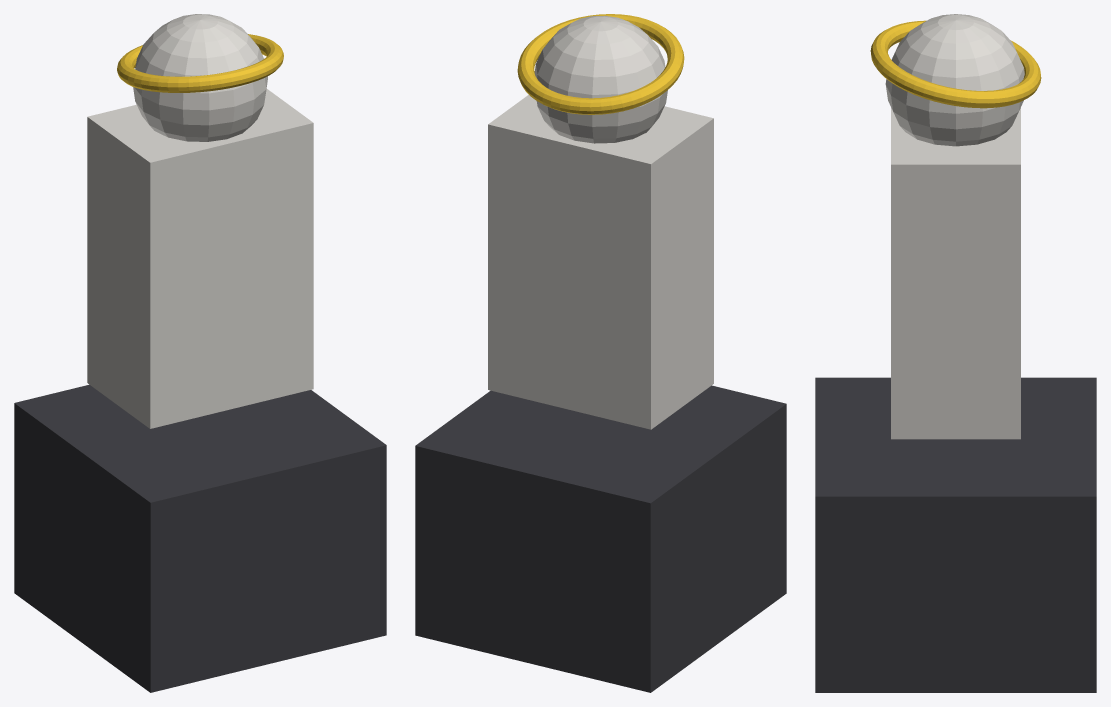
Rendered from caesar_imperial_statue.obj.
3 renders of one model, left to right at view 1: azimuth 30°, elevation 25°; view 2: azimuth 150°, elevation 25°; view 3: azimuth 270°, elevation 25°, orthographic. The views are drawn at different scales.
Visible parts, largest first — view 1: Cube, Cube.001, Sphere, Torus; view 2: Cube, Cube.001, Sphere, Torus; view 3: Cube, Cube.001, Sphere, Torus.
Boxes of the visible parts, left/top/right/bottom form: Cube: left=14, top=384, right=386, bottom=692; Cube.001: left=87, top=89, right=313, bottom=428; Sphere: left=133, top=14, right=267, bottom=141; Torus: left=117, top=34, right=283, bottom=92; Cube: left=415, top=385, right=786, bottom=692; Cube.001: left=488, top=95, right=713, bottom=429; Sphere: left=534, top=15, right=667, bottom=143; Torus: left=517, top=14, right=684, bottom=114; Cube: left=815, top=377, right=1096, bottom=692; Cube.001: left=891, top=107, right=1020, bottom=439; Sphere: left=885, top=14, right=1024, bottom=146; Torus: left=870, top=20, right=1041, bottom=108.
Bounding box in the file's own units: 2.6 × 6.25 × 2.6.
